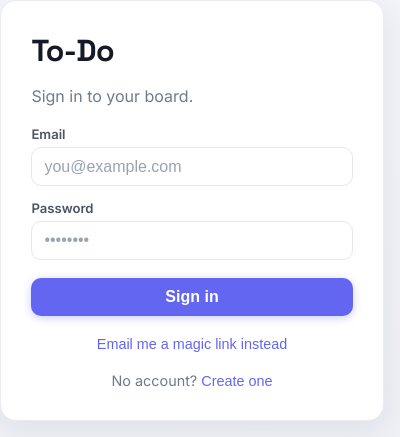
Auth › switches to the create-account form
Click the button "Create one" at (237, 381), box [201,373,272,389]
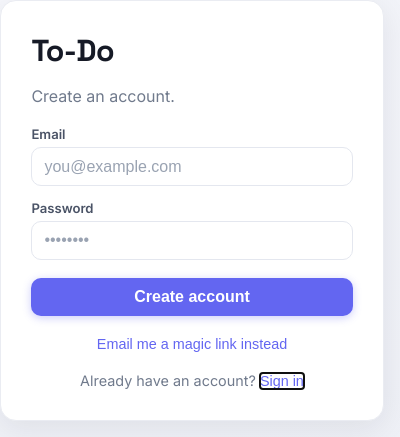
Expected: the button "Create account" is shown, [31,278,353,316]
